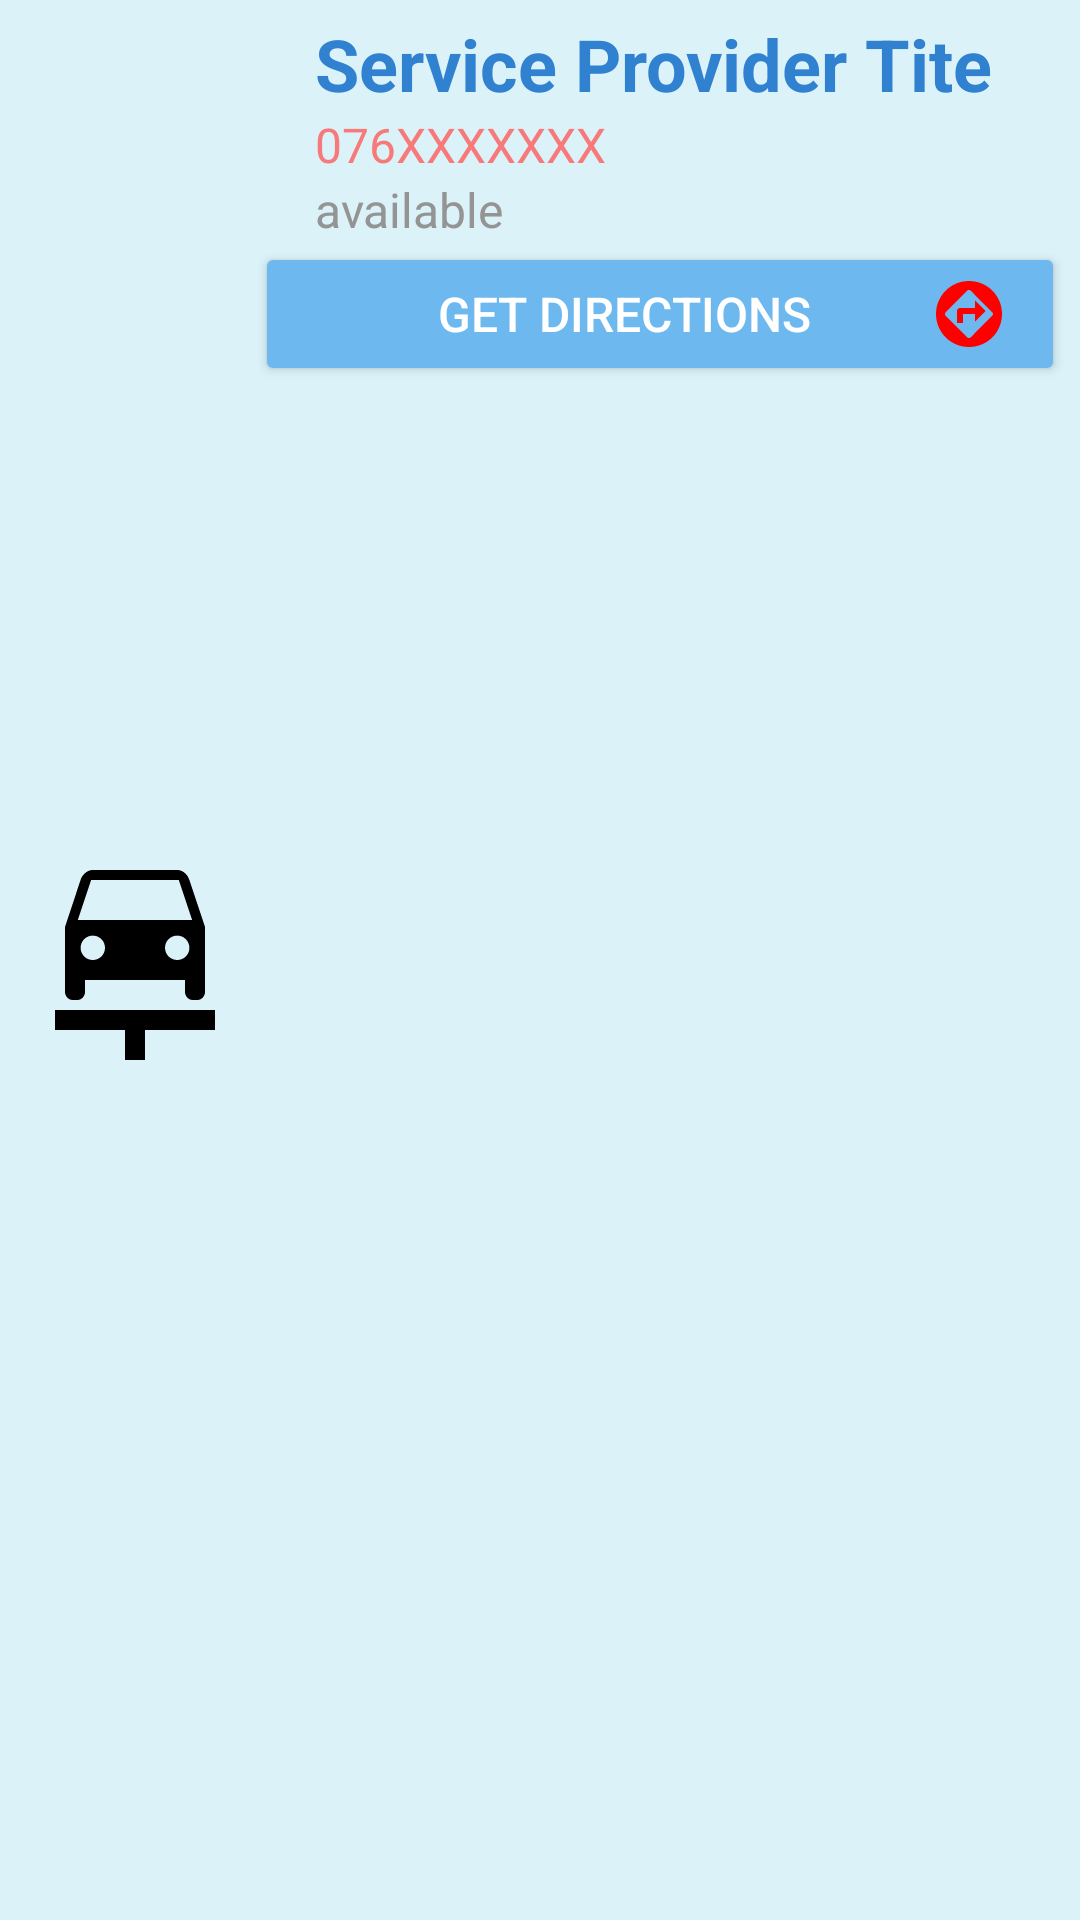

Point at icon controls on the screen. Image size 1080 × 1920, points as (x,y).
car repair: (135,965)
